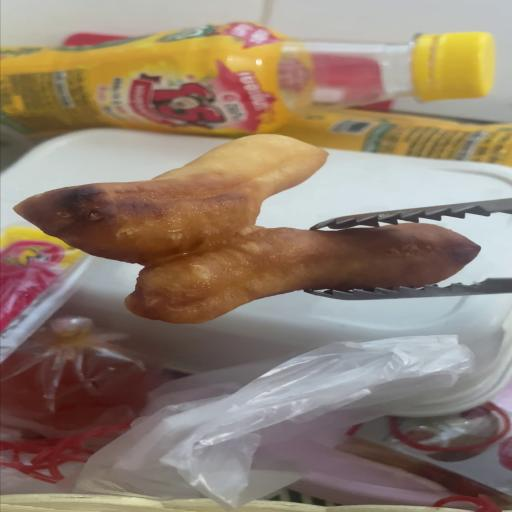street_burnt_good: (13, 134, 479, 323)
